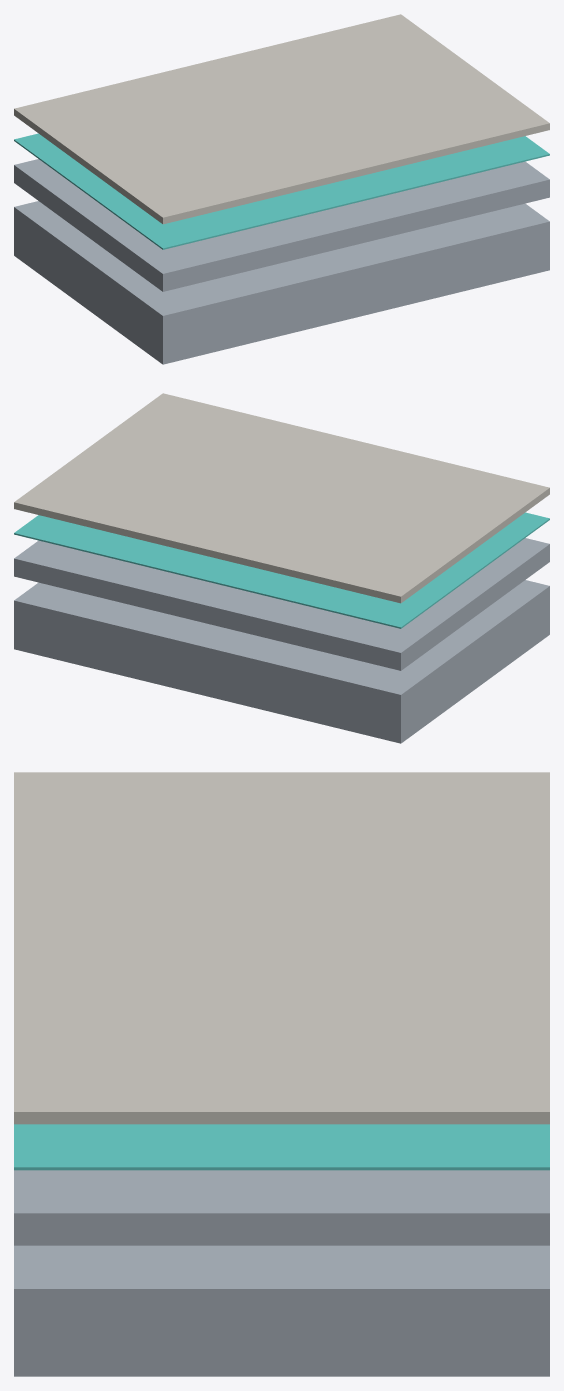
The model's file is deck_box_rail_x.glb.
3 renders of one model, top to bottom at view 1: azimuth 30°, elevation 25°; view 2: azimuth 150°, elevation 25°; view 3: azimuth 270°, elevation 25°, orthographic. The views are drawn at different scales.
Parts seen in each view (by area): view 1: deck_box_rail_x; view 2: deck_box_rail_x; view 3: deck_box_rail_x.
Part boxes in pixels (x1,y1,x2,y2): deck_box_rail_x: (14, 14, 549, 364); deck_box_rail_x: (14, 393, 549, 743); deck_box_rail_x: (14, 772, 549, 1376).
Bounding box in the file's own units: 1 × 0.363 × 0.6667.
